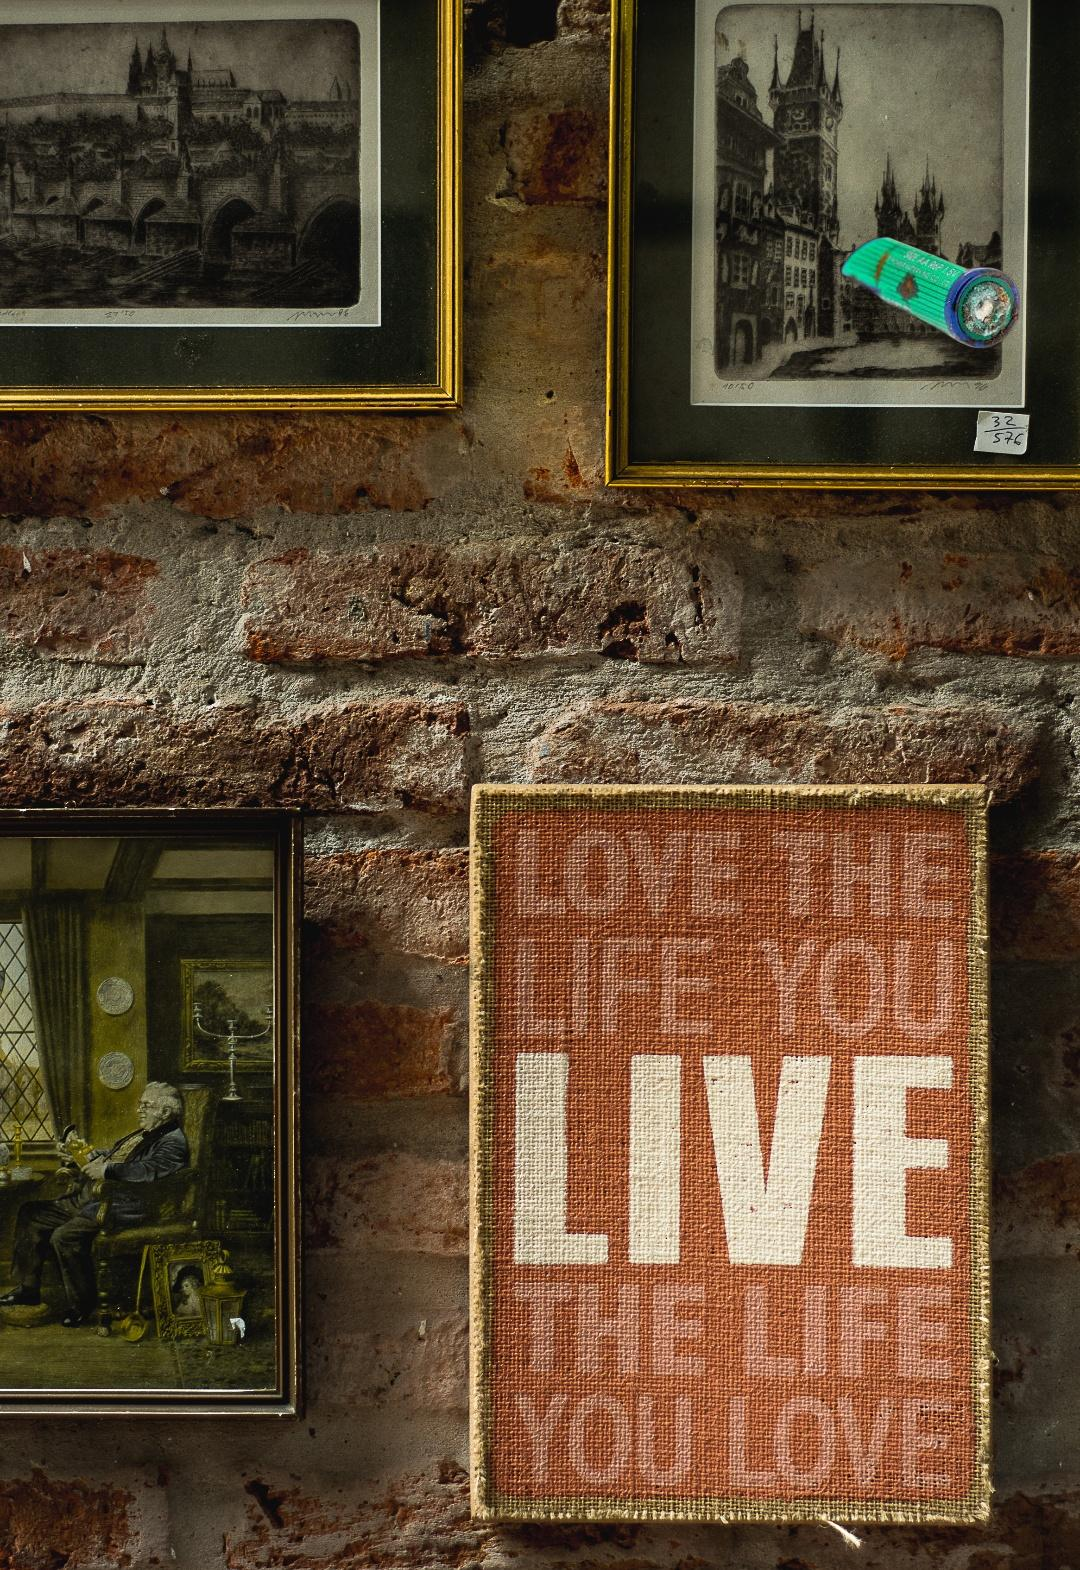battery: (827, 227, 1023, 351)
